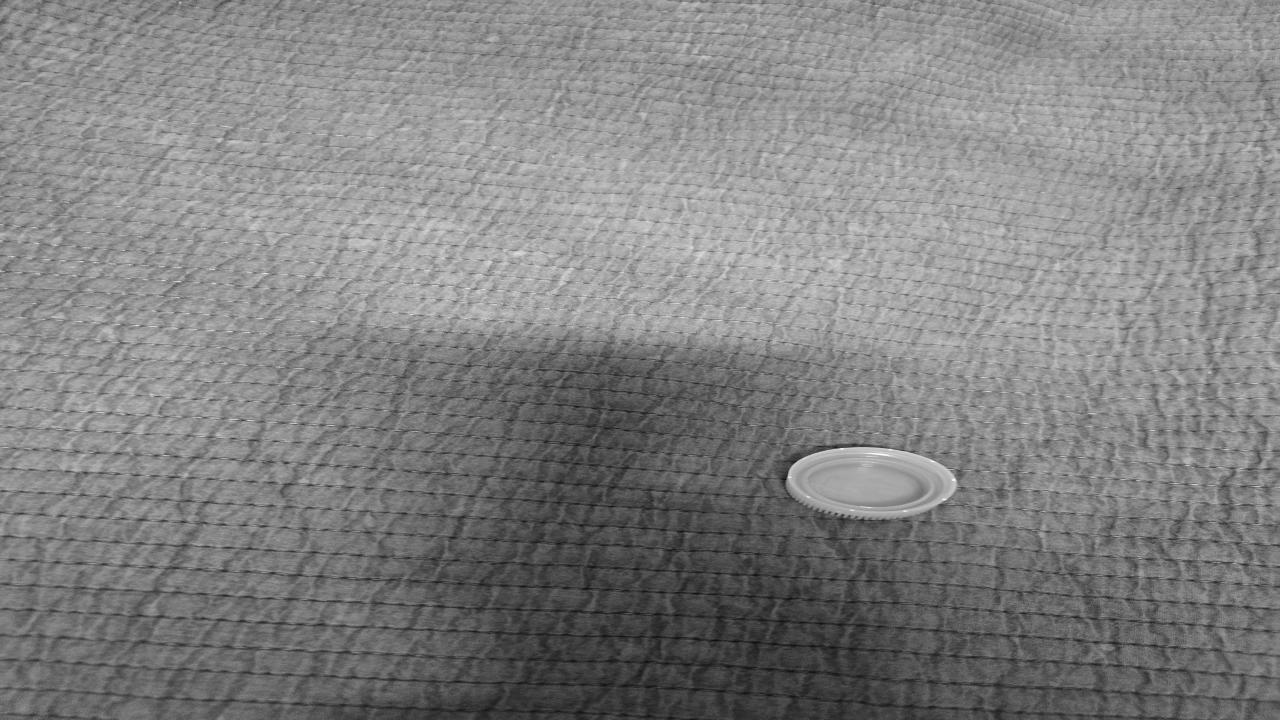bottle_cap: (780, 445, 962, 520)
